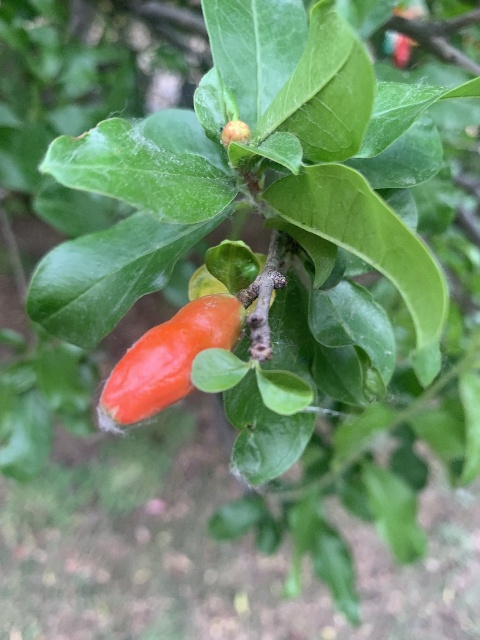bud: (98, 294, 241, 425), (220, 119, 250, 149)
